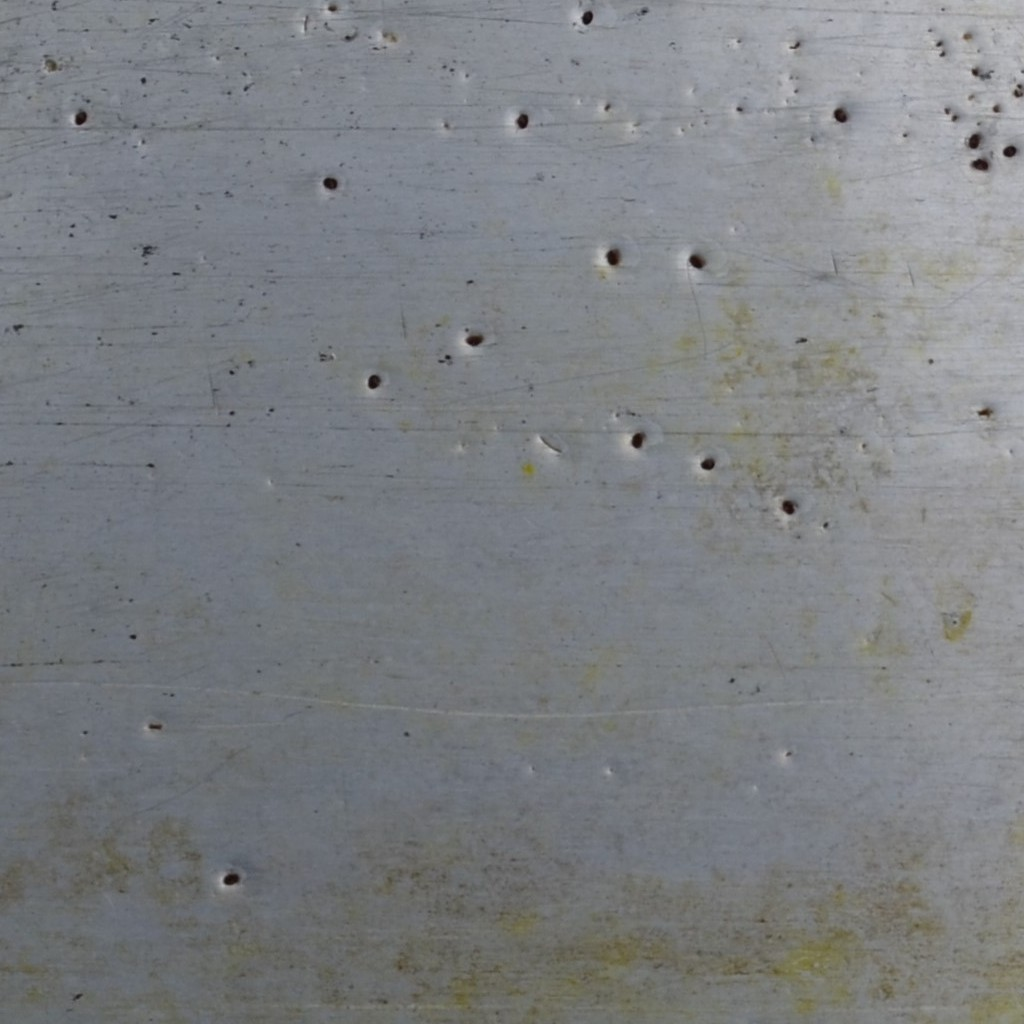varroa: (463, 329, 484, 354), (627, 427, 646, 453), (602, 244, 621, 270), (687, 248, 705, 274), (779, 495, 798, 518), (969, 154, 990, 174), (220, 869, 241, 889), (698, 451, 716, 474), (832, 104, 847, 127), (365, 373, 382, 393), (322, 174, 340, 192), (73, 106, 87, 128), (1001, 142, 1017, 161), (515, 111, 529, 132), (580, 6, 594, 26), (967, 130, 980, 150)
